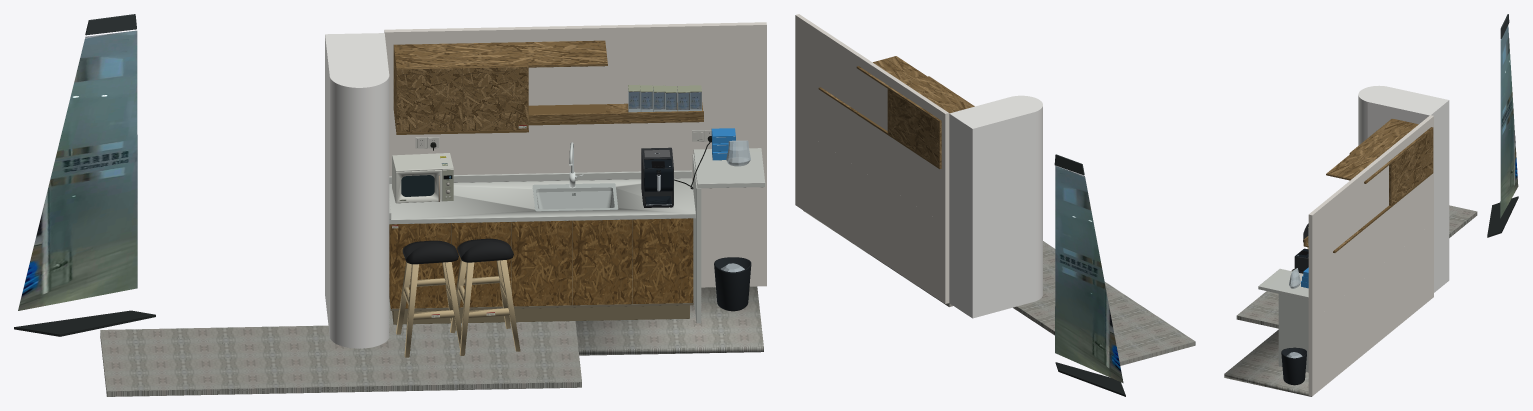
3 views of the same model, side by side, from view 1: azimuth 30°, elevation 25°; view 2: azimuth 150°, elevation 25°; view 3: azimuth 270°, elevation 25° (orthographic). The views are drawn at different scales.
Visible parts, largest first — view 1: wall_back_mesh, floor_mesh, Observed_left_glass_visible_patch, wall_left_mesh, s1-floor-cabinet-measured__stone_countertop, floor_observed_right_continuation, wall_back_to_floor_mesh, s1-hanging-cabinet-measured__cabinet_top, s1-floor-cabinet-measured__osb_door_4, s1-floor-cabinet-measured__osb_door_5, s1-floor-cabinet-measured__osb_door_3, s1-hanging-cabinet-measured__left_handleless_door (+22 smaller); view 2: wall_left_mesh, wall_back_mesh, wall_back_to_floor_mesh, Observed_left_glass_visible_patch, floor_mesh, s1-hanging-cabinet-measured__closed_cupboard_back, s1-hanging-cabinet-measured__cabinet_top, Observed_left_glass_black_threshold_partial; view 3: wall_back_mesh, wall_back_to_floor_mesh, wall_left_mesh, Observed_left_glass_visible_patch, floor_observed_right_continuation, s1-hanging-cabinet-measured__cabinet_top, s1-hanging-cabinet-measured__closed_cupboard_back, scene1-right-group__raised_support_panel, floor_mesh, scene1-right-group__raised_countertop, scene1-right-group__waste_bin, Observed_left_glass_black_threshold_partial.
Boxes of the visible parts, bbox=[...] form: wall_back_mesh: bbox=[384, 22, 766, 179]; floor_mesh: bbox=[100, 321, 581, 396]; Observed_left_glass_visible_patch: bbox=[18, 30, 137, 310]; wall_left_mesh: bbox=[325, 33, 389, 348]; s1-floor-cabinet-measured__stone_countertop: bbox=[389, 178, 695, 224]; floor_observed_right_continuation: bbox=[575, 286, 763, 355]; wall_back_to_floor_mesh: bbox=[692, 178, 766, 287]; s1-hanging-cabinet-measured__cabinet_top: bbox=[393, 40, 607, 69]; s1-floor-cabinet-measured__osb_door_4: bbox=[572, 219, 632, 305]; s1-floor-cabinet-measured__osb_door_5: bbox=[633, 218, 693, 303]; s1-floor-cabinet-measured__osb_door_3: bbox=[512, 220, 572, 306]; s1-hanging-cabinet-measured__left_handleless_door: bbox=[396, 67, 462, 132]; wall_left_mesh: bbox=[949, 95, 1042, 318]; wall_back_mesh: bbox=[795, 14, 949, 225]; wall_back_to_floor_mesh: bbox=[795, 126, 949, 303]; Observed_left_glass_visible_patch: bbox=[1055, 165, 1123, 383]; floor_mesh: bbox=[1013, 241, 1195, 365]; s1-hanging-cabinet-measured__closed_cupboard_back: bbox=[888, 89, 938, 166]; s1-hanging-cabinet-measured__cabinet_top: bbox=[856, 56, 973, 122]; Observed_left_glass_black_threshold_partial: bbox=[1055, 362, 1125, 396]; wall_back_mesh: bbox=[1308, 115, 1433, 321]; wall_back_to_floor_mesh: bbox=[1308, 222, 1433, 396]; wall_left_mesh: bbox=[1358, 85, 1449, 292]; Observed_left_glass_visible_patch: bbox=[1500, 25, 1518, 218]; floor_observed_right_continuation: bbox=[1224, 330, 1311, 396]; s1-hanging-cabinet-measured__cabinet_top: bbox=[1326, 119, 1433, 183]; s1-hanging-cabinet-measured__closed_cupboard_back: bbox=[1392, 130, 1432, 204]; scene1-right-group__raised_support_panel: bbox=[1278, 294, 1308, 372]; floor_mesh: bbox=[1236, 205, 1477, 328]; scene1-right-group__raised_countertop: bbox=[1258, 268, 1308, 300]; scene1-right-group__waste_bin: bbox=[1281, 347, 1306, 385]; Observed_left_glass_black_threshold_partial: bbox=[1487, 196, 1518, 237].
Size of the model in its own units: 5.05 by 2.38 by 3.07.
Materials: 79 (16 with a texture image).
